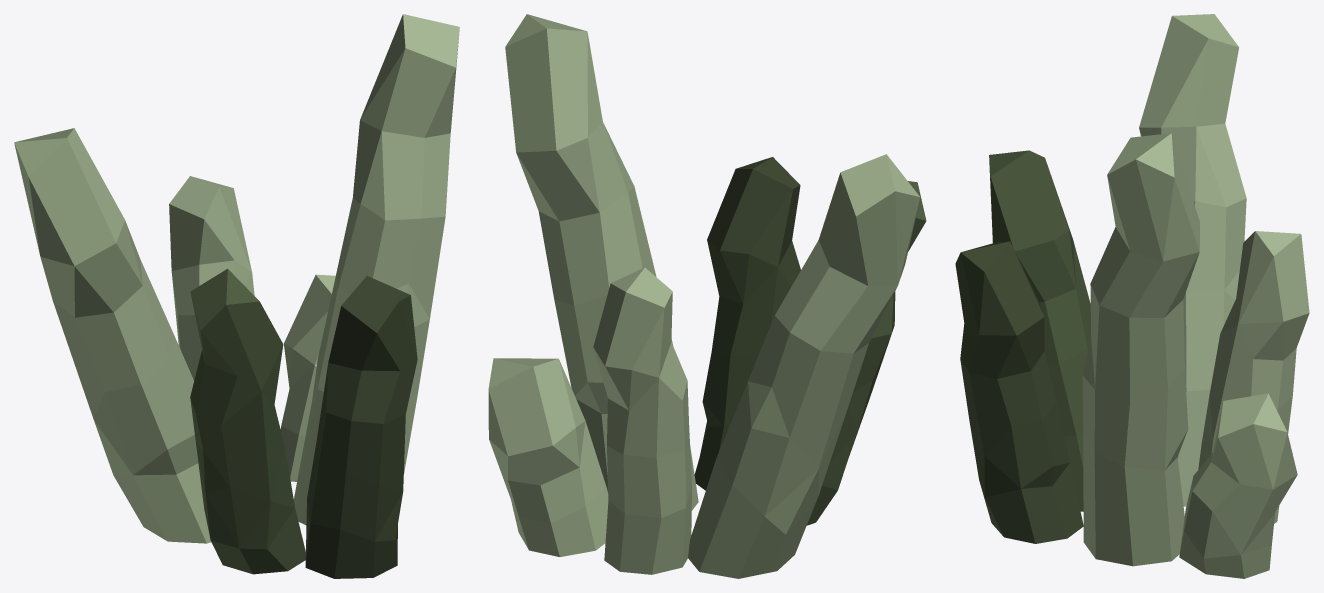
File: EA_Swamp_Grass_03e.glb
3 views of the same model, side by side, from view 1: azimuth 30°, elevation 25°; view 2: azimuth 150°, elevation 25°; view 3: azimuth 270°, elevation 25° (orthographic). The views are drawn at different scales.
Parts seen in each view (by area): view 1: EA_Swamp_Grass_03e; view 2: EA_Swamp_Grass_03e; view 3: EA_Swamp_Grass_03e.
Boxes of the visible parts, x1,y1,x2,y2 form: EA_Swamp_Grass_03e: [14, 14, 459, 578]; EA_Swamp_Grass_03e: [488, 14, 926, 578]; EA_Swamp_Grass_03e: [955, 14, 1309, 578].
Bounding box in the file's own units: 0.7595 × 0.83 × 0.5884.
Materials: 1 (1 with a texture image).
